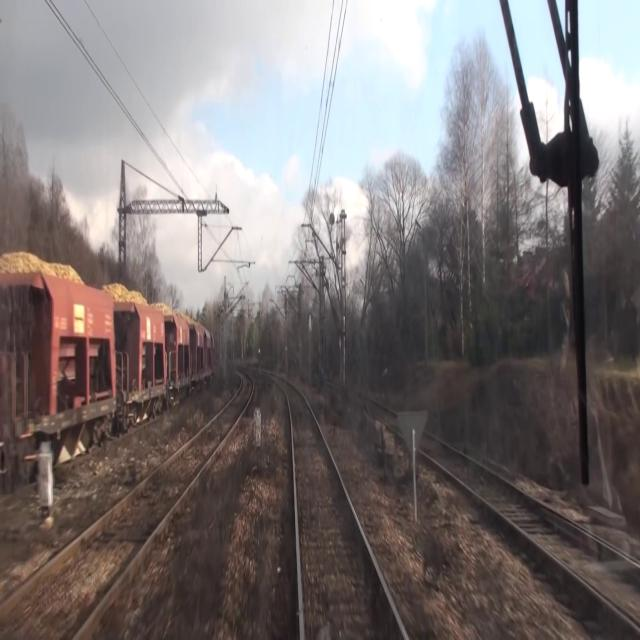rail-track: (0, 375, 251, 639), (418, 433, 640, 615), (280, 380, 402, 639), (338, 387, 400, 429)
